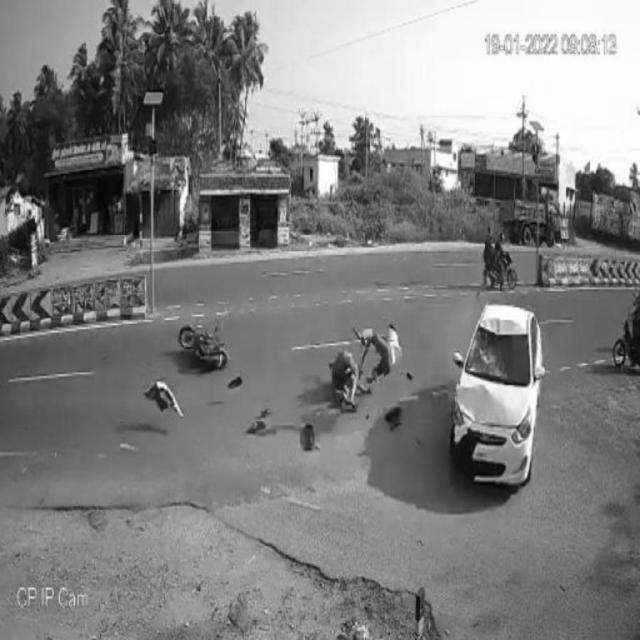person: (333, 343, 371, 415), (359, 325, 406, 381)
vehicle: (450, 290, 543, 492), (179, 313, 229, 384), (479, 232, 524, 296), (614, 290, 640, 367)
